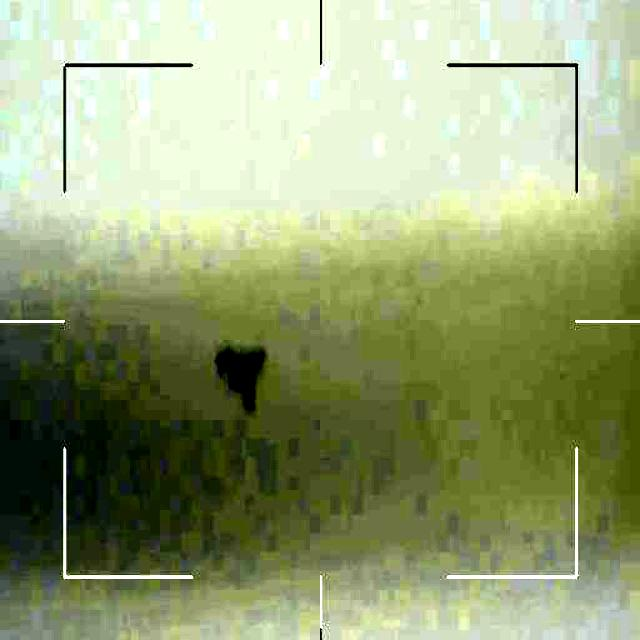bird: (211, 336, 275, 418)
